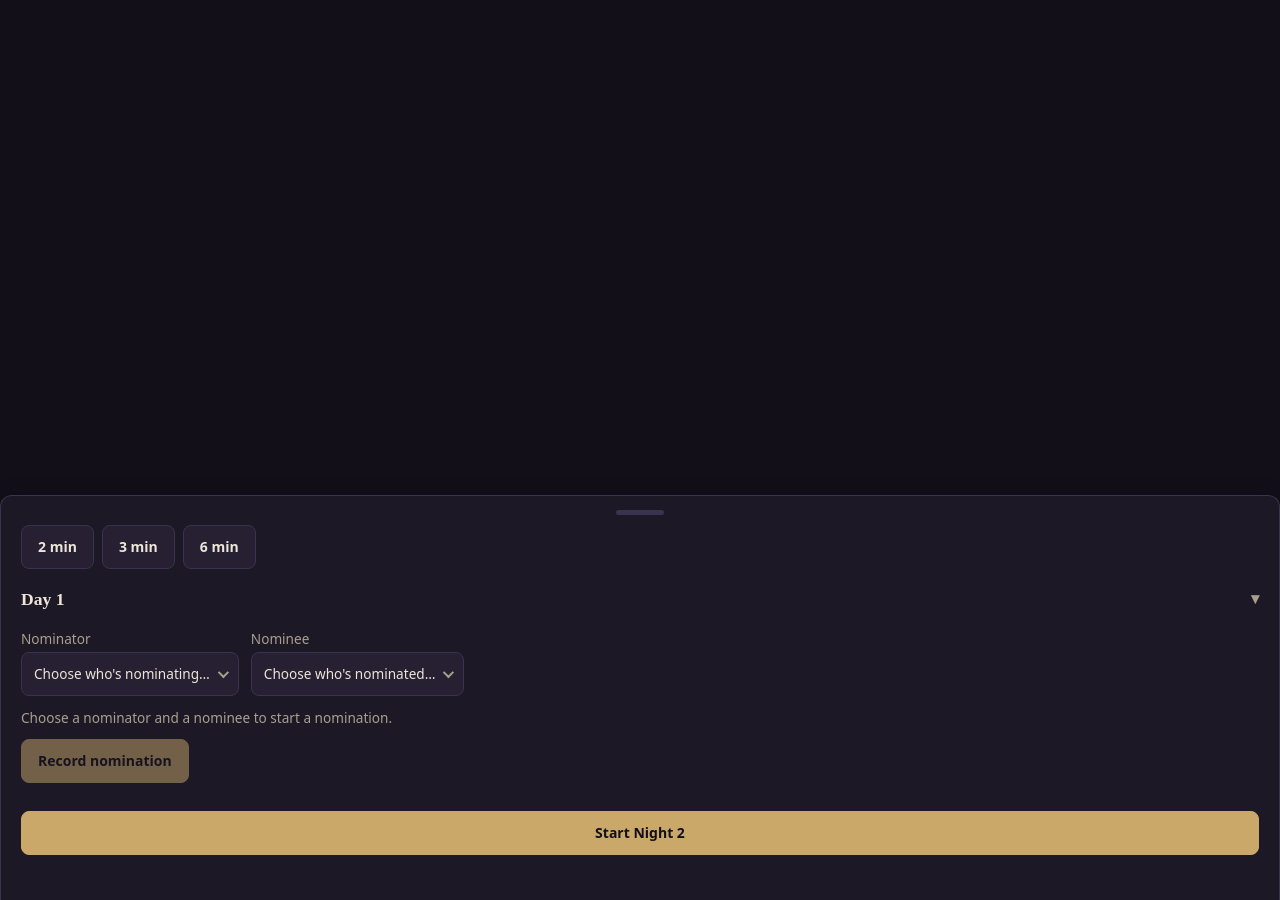
Scenario: Day phase: recording a nomination › shows a placeholder preview until both a nominator and a nominee are chosen, then names them
Expected: the text "Choose a nominator and a nominee to start a nomination." is shown, [21, 708, 392, 727]
Click the dropdown named "Nominator" at (130, 674), box [21, 652, 239, 696]
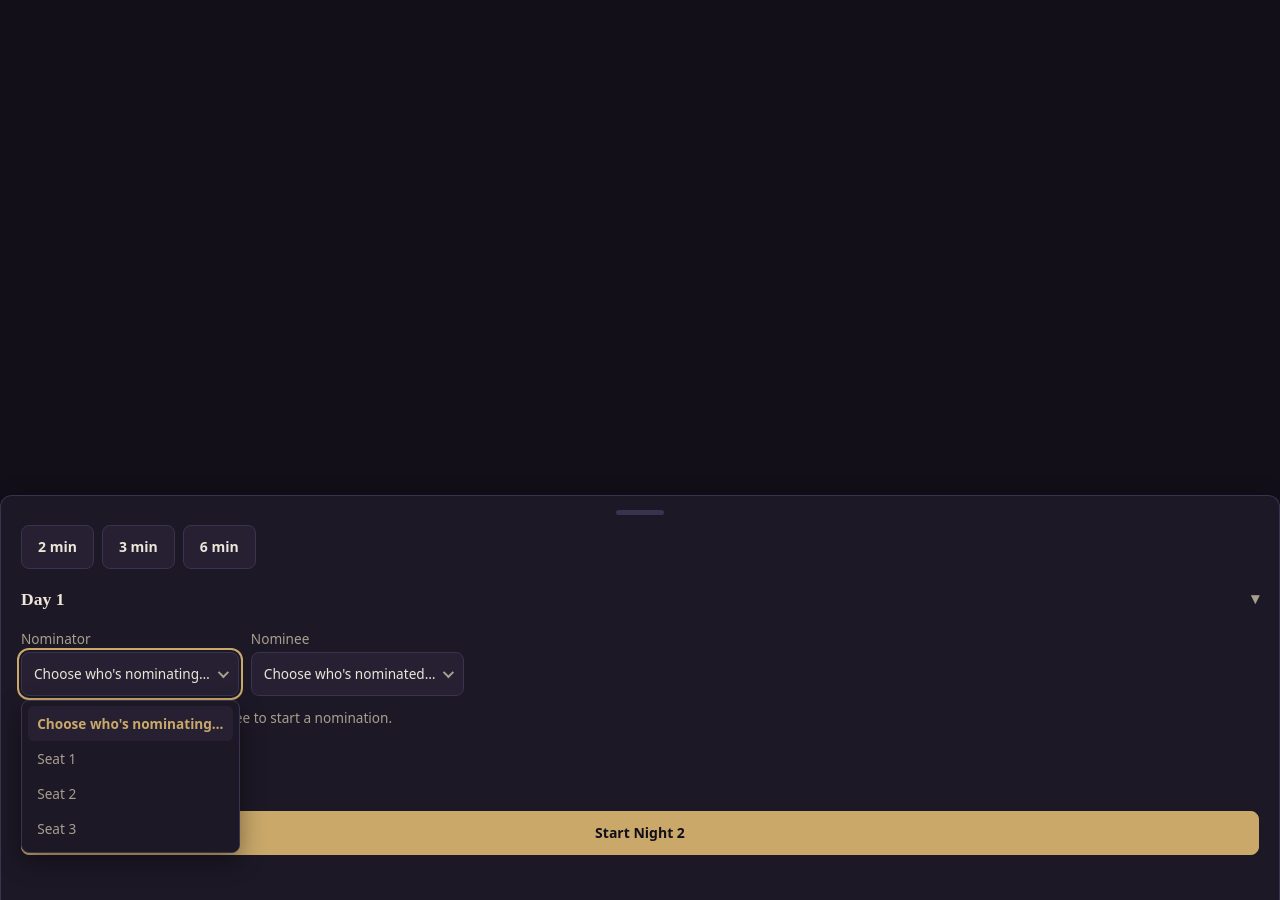
Click the option "Seat 1" at (57, 759), box [37, 749, 76, 768]
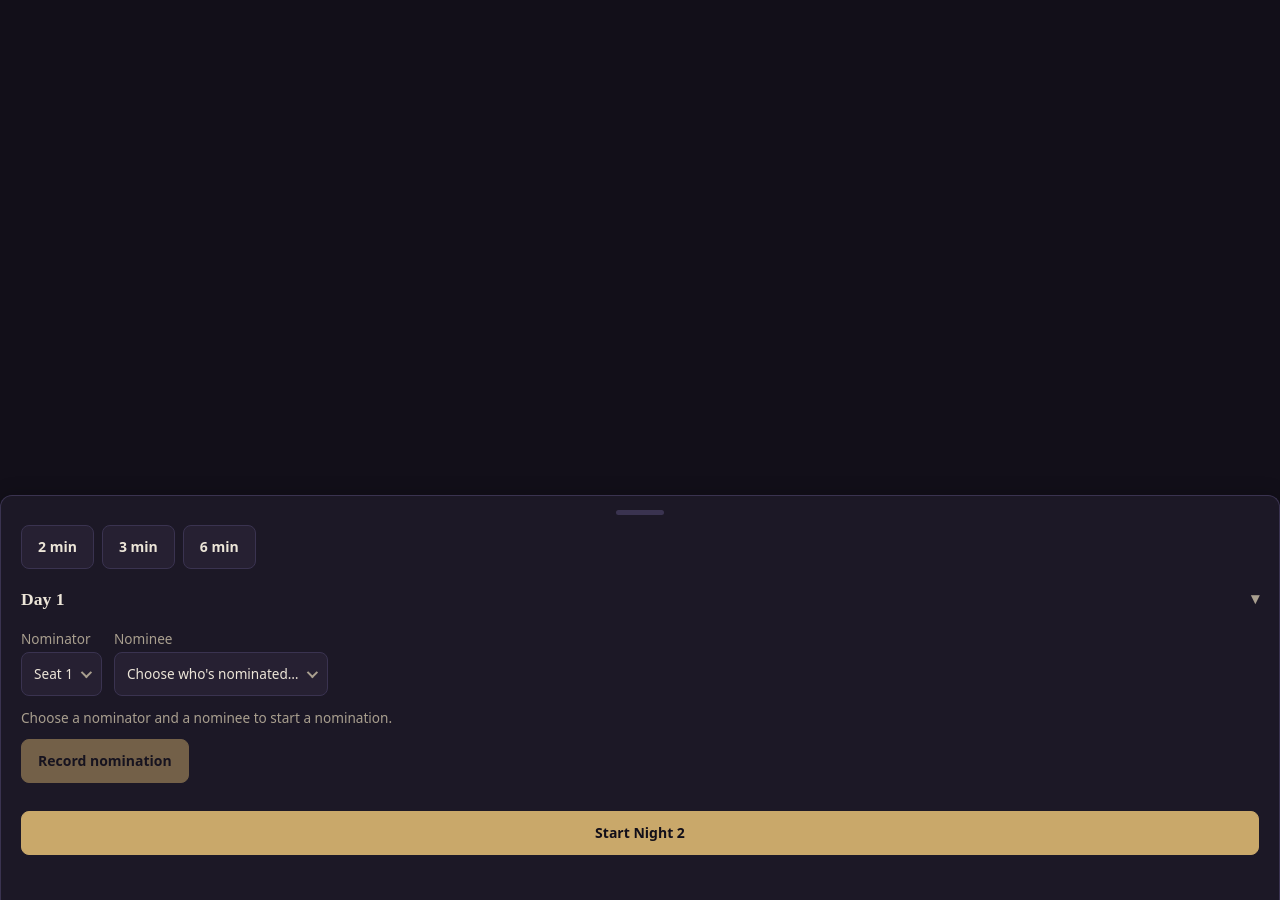
Expected: the text "Choose a nominator and a nominee to start a nomination." is shown, [21, 708, 392, 727]
Expected: the button "Record nomination" is disabled, [21, 739, 189, 783]
Click the dropdown named "Nominee" at (221, 674), box [114, 652, 328, 696]
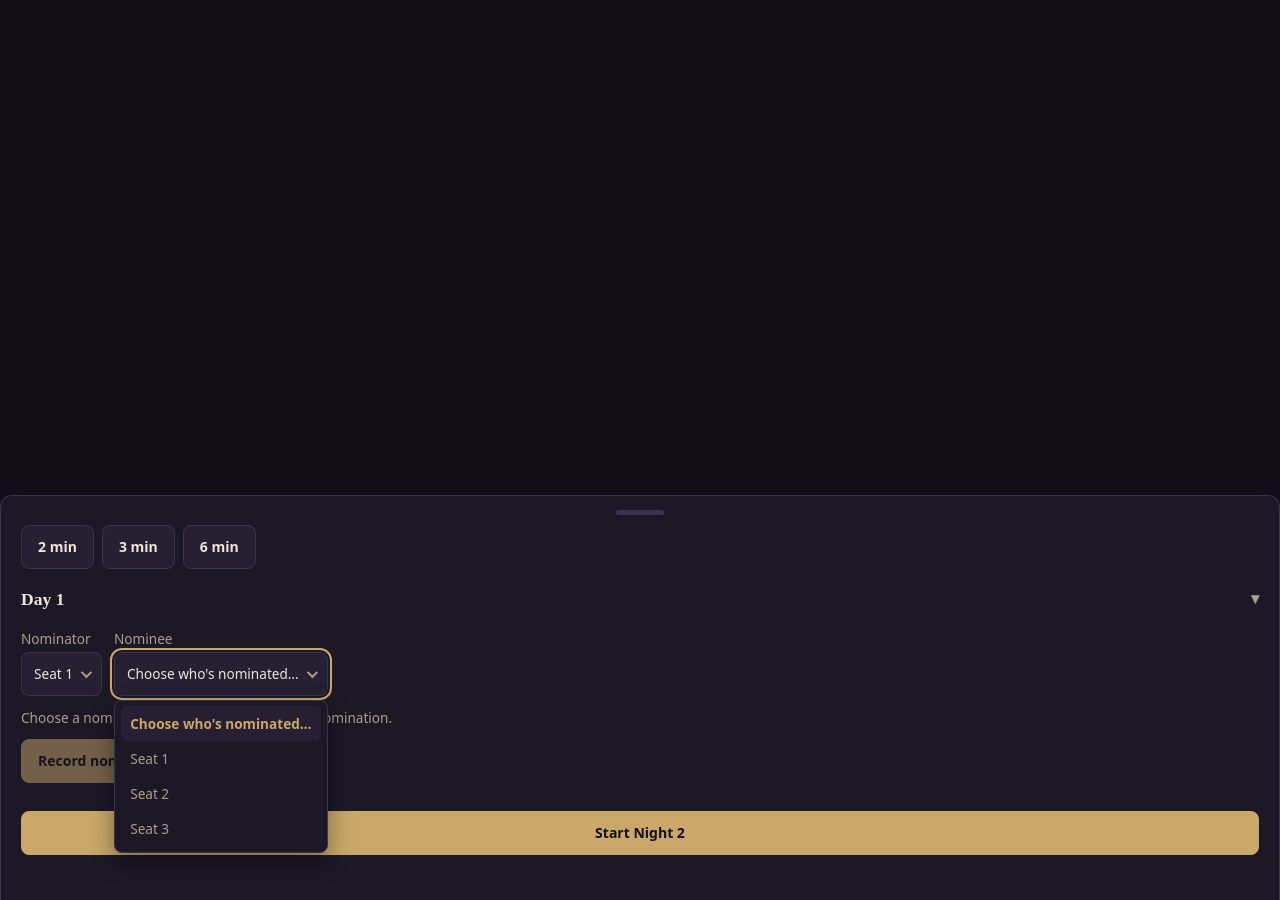
Click the option "Seat 2" at (150, 794), box [130, 784, 169, 803]
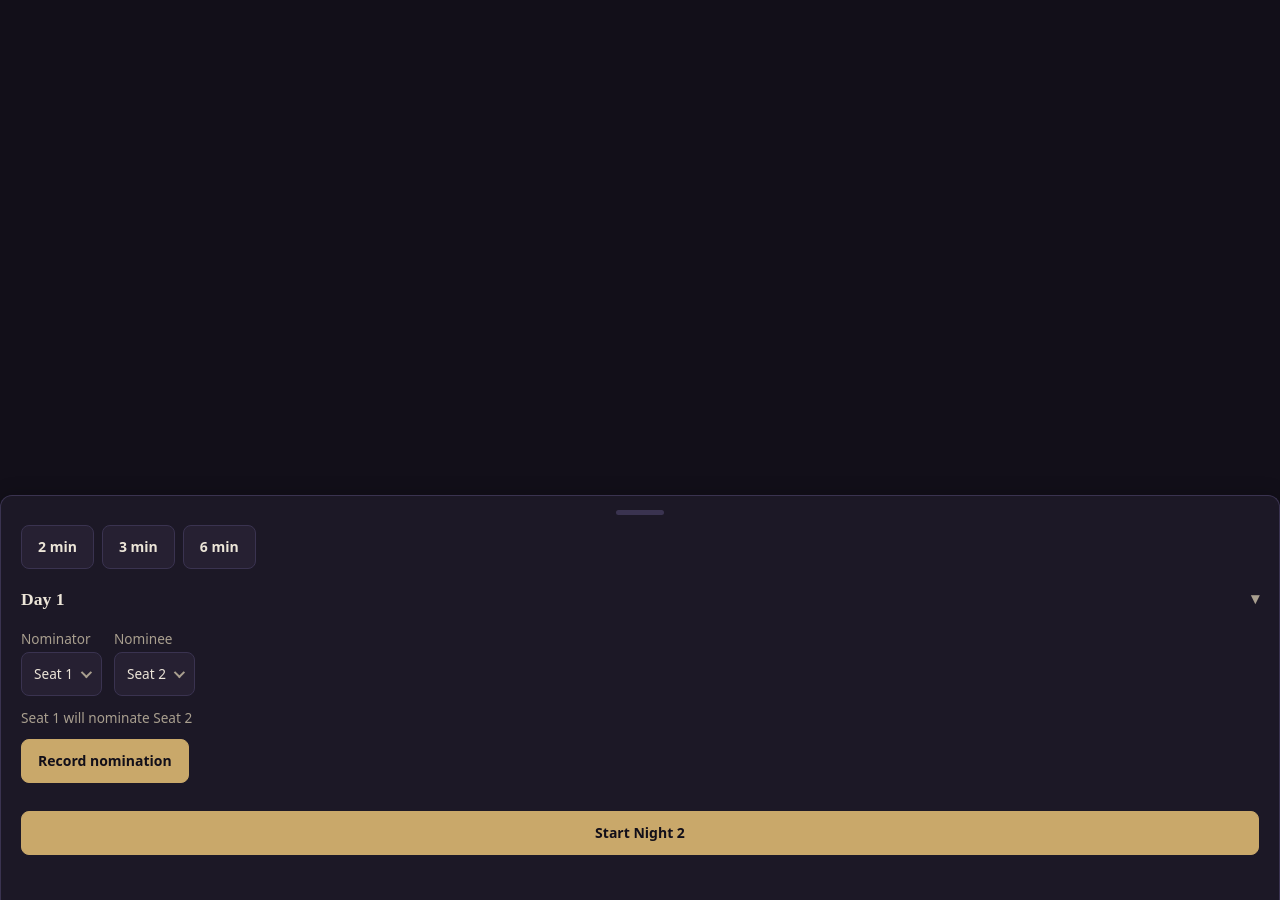
Expected: the button "Record nomination" is enabled, [21, 739, 189, 783]
